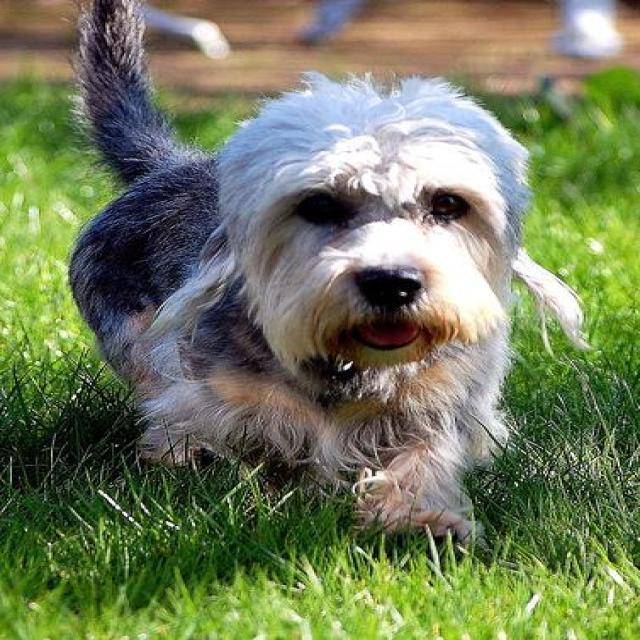dandie_dinmont: (63, 0, 528, 550)
